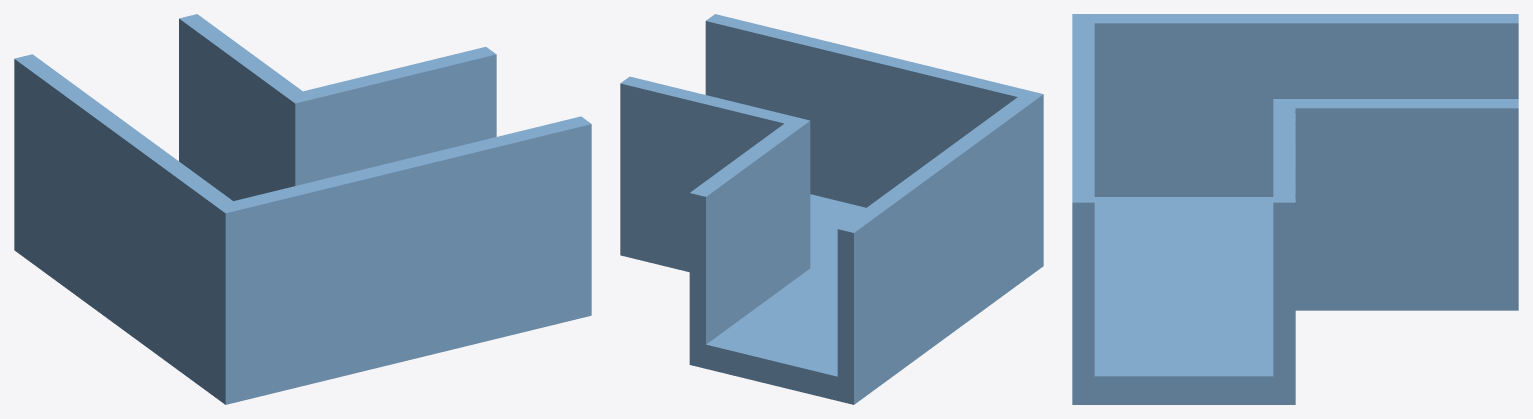
The model's file is Corner_Rail_C.fbx.
3 views of the same model, side by side, from view 1: azimuth 30°, elevation 25°; view 2: azimuth 150°, elevation 25°; view 3: azimuth 270°, elevation 25° (orthographic). The views are drawn at different scales.
Visible parts, largest first — view 1: Corner_Rail_C; view 2: Corner_Rail_C; view 3: Corner_Rail_C.
Boxes of the visible parts, bbox=[...] form: Corner_Rail_C: bbox=[14, 14, 591, 404]; Corner_Rail_C: bbox=[620, 14, 1043, 404]; Corner_Rail_C: bbox=[1072, 14, 1518, 404].
Size of the model in its own units: 100 by 50 by 100.
